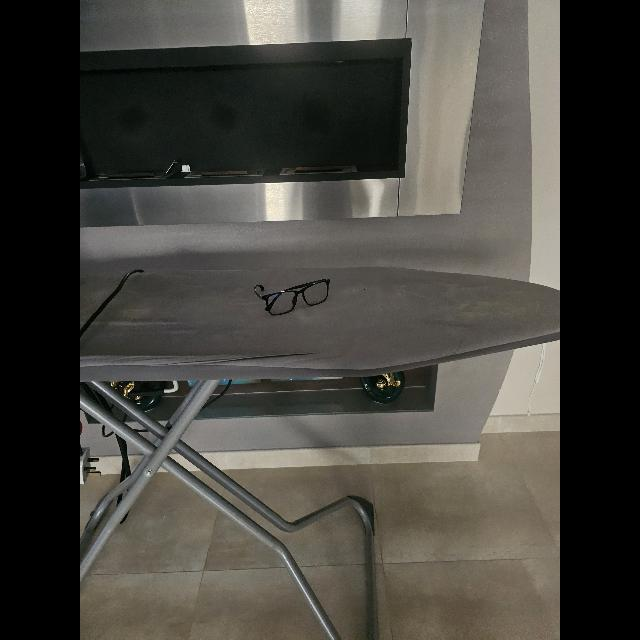glasses: (254, 279, 330, 315)
